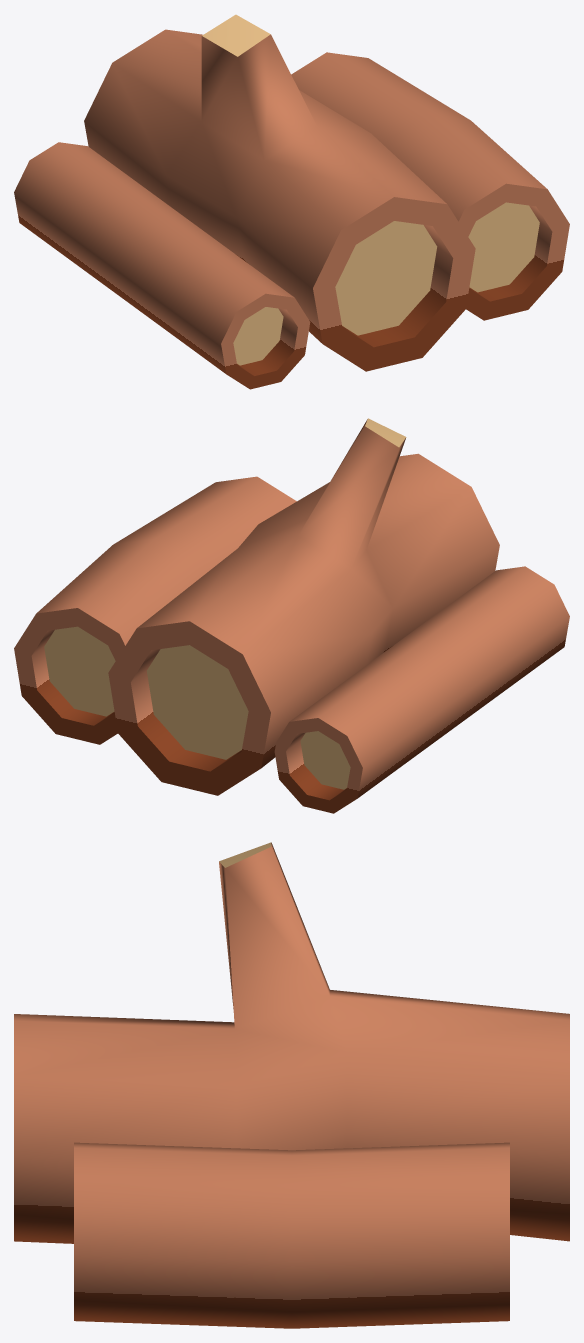
File: ForestWood1.fbx
3 views of the same model, one above another, from view 1: azimuth 30°, elevation 25°; view 2: azimuth 150°, elevation 25°; view 3: azimuth 270°, elevation 25° (orthographic). The views are drawn at different scales.
Parts seen in each view (by area): view 1: Stump.018; view 2: Stump.018; view 3: Stump.018.
Boxes of the visible parts, x1,y1,x2,y2 form: Stump.018: [14, 14, 569, 389]; Stump.018: [14, 418, 569, 813]; Stump.018: [14, 842, 569, 1328].
Size of the model in its own units: 2.49 by 1.82 by 2.63.
Materials: 1 (1 with a texture image).
